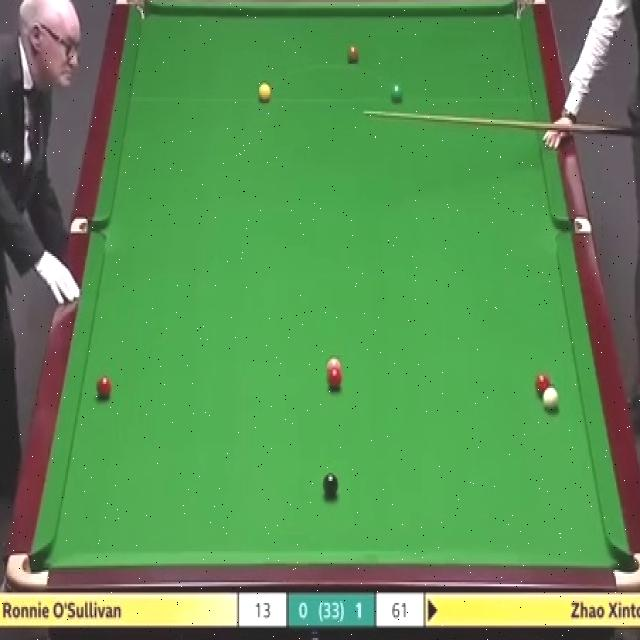black-ball: (321, 473, 341, 496)
brown-ball: (346, 46, 359, 67)
green-ball: (389, 81, 403, 103)
pink-ball: (326, 357, 341, 371)
red-ball: (96, 374, 112, 400), (534, 372, 550, 396), (328, 368, 342, 390)
white-ball: (542, 389, 560, 410)
yellow-ball: (257, 82, 271, 103)
